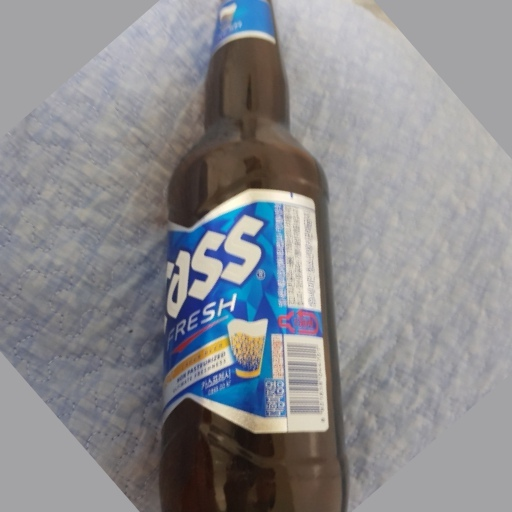Glass_1: (155, 1, 347, 512)
